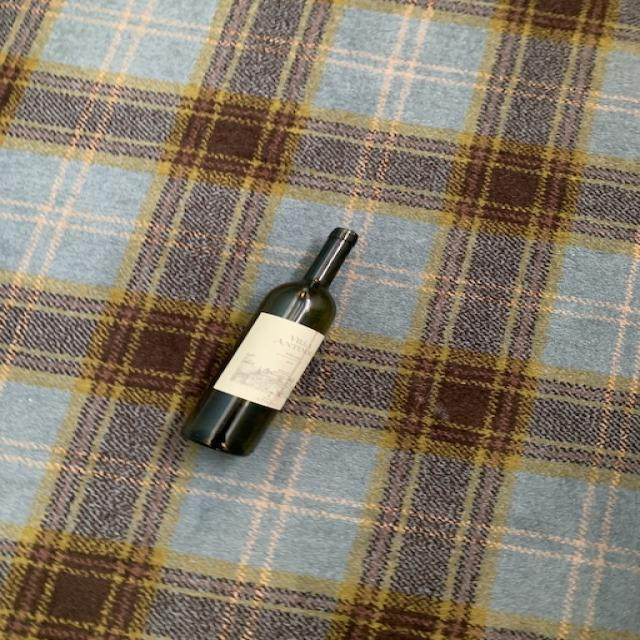litter: (181, 223, 365, 465)
